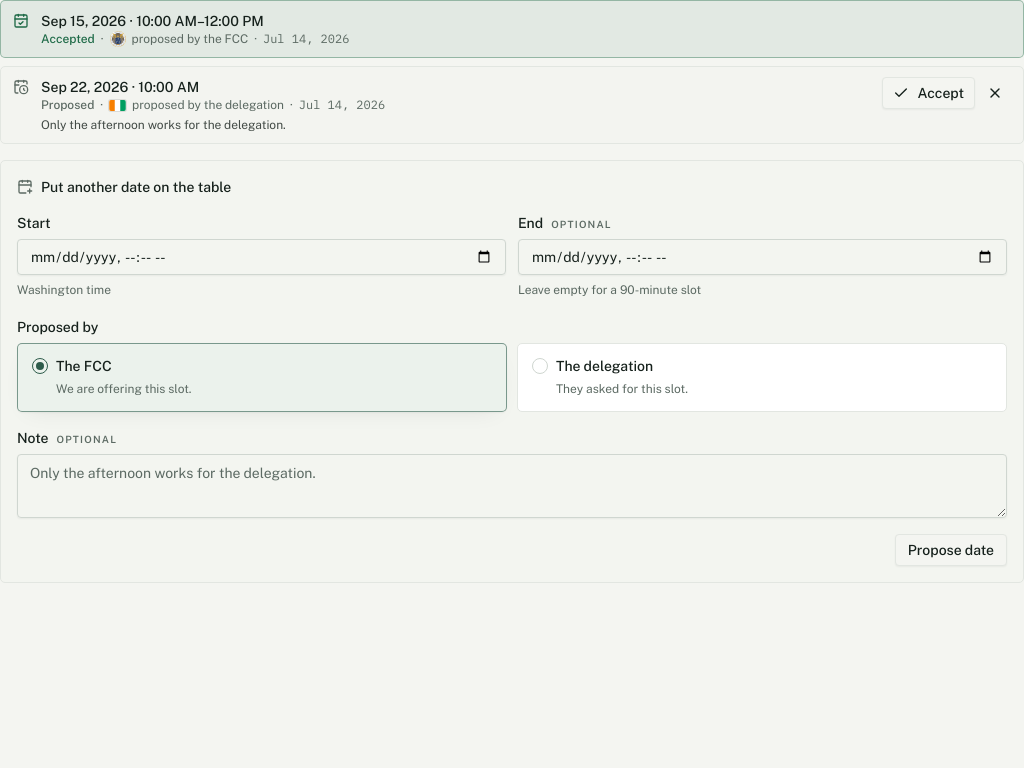
Test: CandidateDatePanel › refuses a proposal whose end is before its start
This screenshot has width=1024, height=768.
Type "2026-10-06T10:00" into the field labelled "Start" at (262, 257), box x1=17 y1=239 x2=506 y2=275
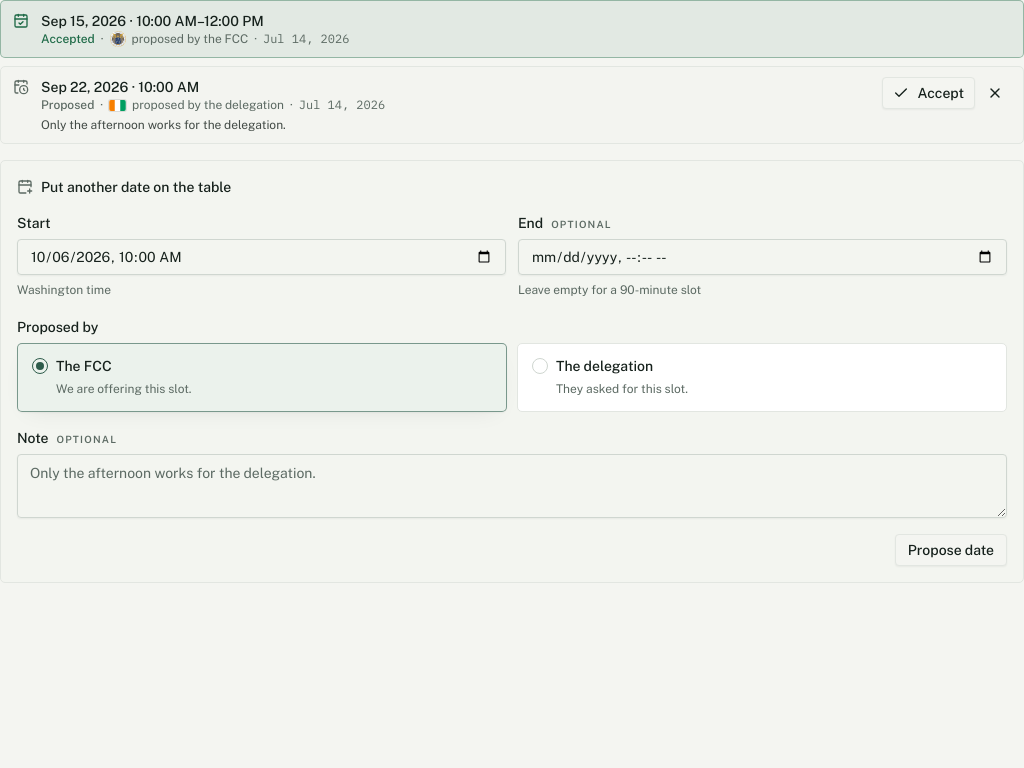
Type "2026-10-06T09:00" into the field labelled "End" at (762, 257), box x1=518 y1=239 x2=1007 y2=275
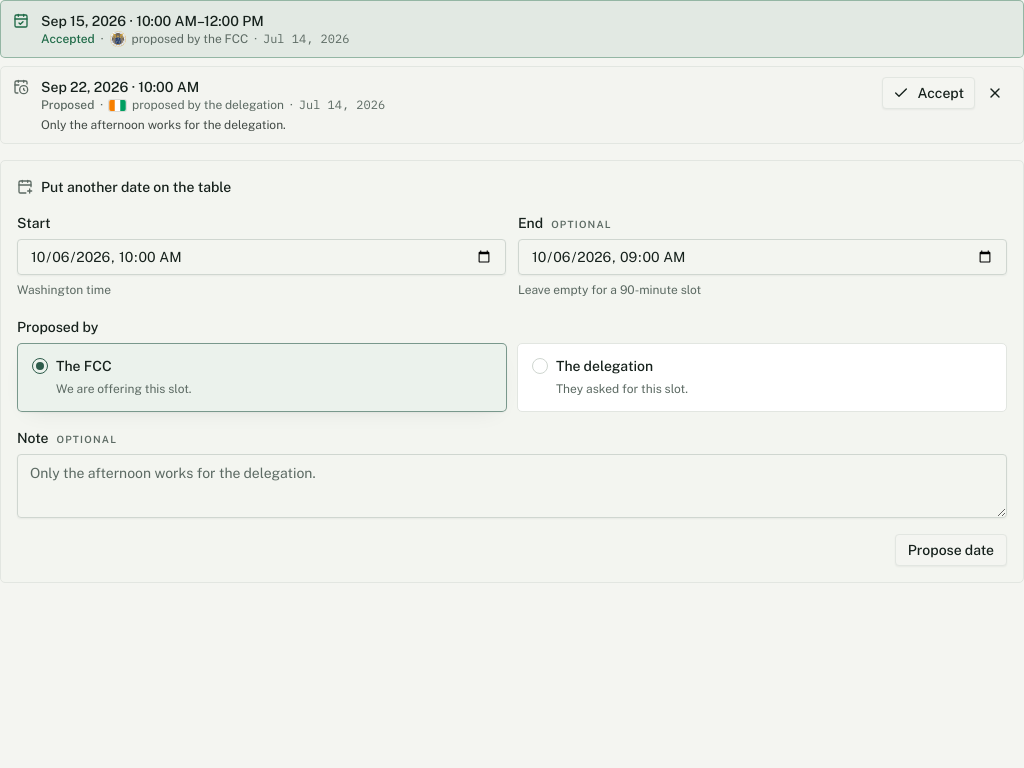
Click the button "Propose date" at (951, 550), box x1=895 y1=534 x2=1007 y2=566
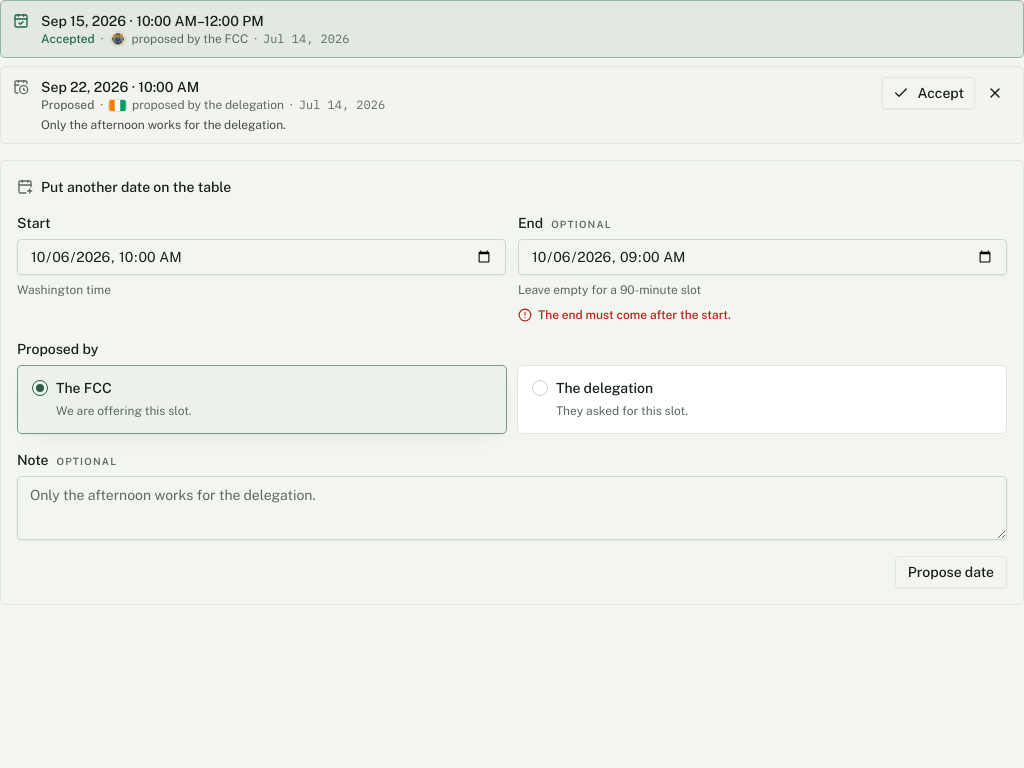
Now the text "The end must come after the start." is shown, box x1=538 y1=306 x2=731 y2=322
